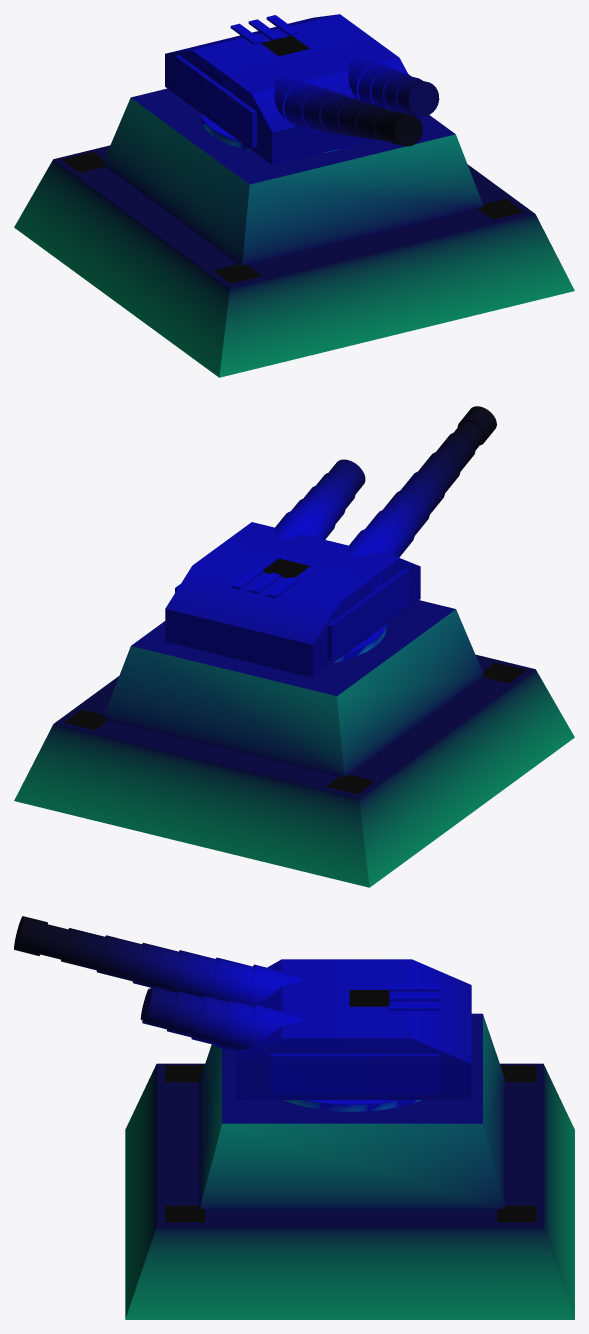
Rendered from orbitalturret_damaged.glb.
The picture shows the model from 3 angles, top to bottom: view 1: azimuth 30°, elevation 25°; view 2: azimuth 150°, elevation 25°; view 3: azimuth 270°, elevation 25°; orthographic projection. The views are drawn at different scales.
Parts seen in each view (by area): view 1: lod0_Base, lod0_Turret, lod0_Gun; view 2: lod0_Base, lod0_Turret, lod0_Gun; view 3: lod0_Base, lod0_Turret, lod0_Gun.
Part boxes in pixels (x1,y1,x2,y2): lod0_Base: (14, 88, 574, 377); lod0_Turret: (165, 14, 420, 165); lod0_Gun: (223, 59, 439, 146); lod0_Base: (14, 600, 574, 887); lod0_Turret: (165, 522, 420, 677); lod0_Gun: (274, 406, 496, 591); lod0_Base: (125, 1013, 574, 1319); lod0_Turret: (236, 959, 471, 1099); lod0_Gun: (14, 916, 342, 1053).
Size of the model in its own units: 15.87 by 11.19 by 19.8.
